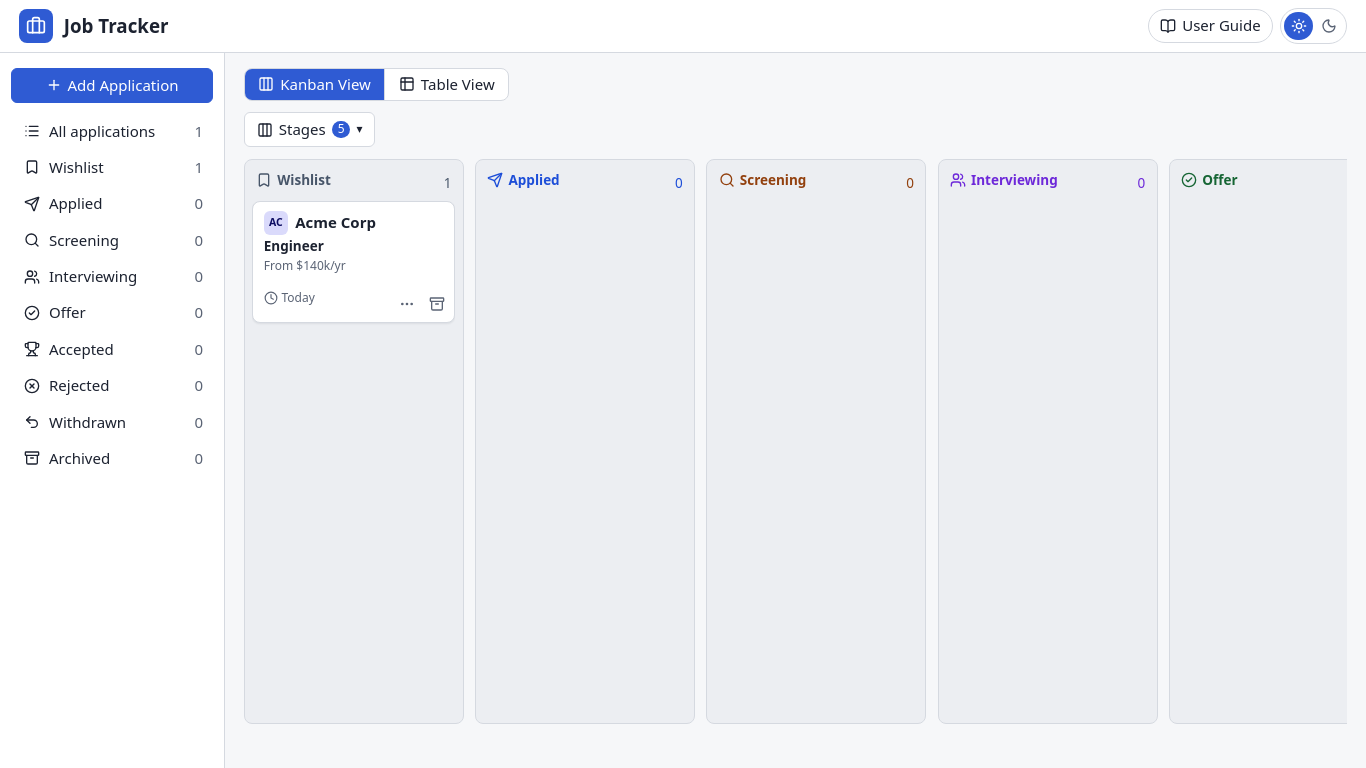
Test: job details section › doesn't count saved amounts shown with commas as a change
Click the button "AC Acme Corp Engineer From $140k/yr Today" at (354, 262), box [252,201,455,323]
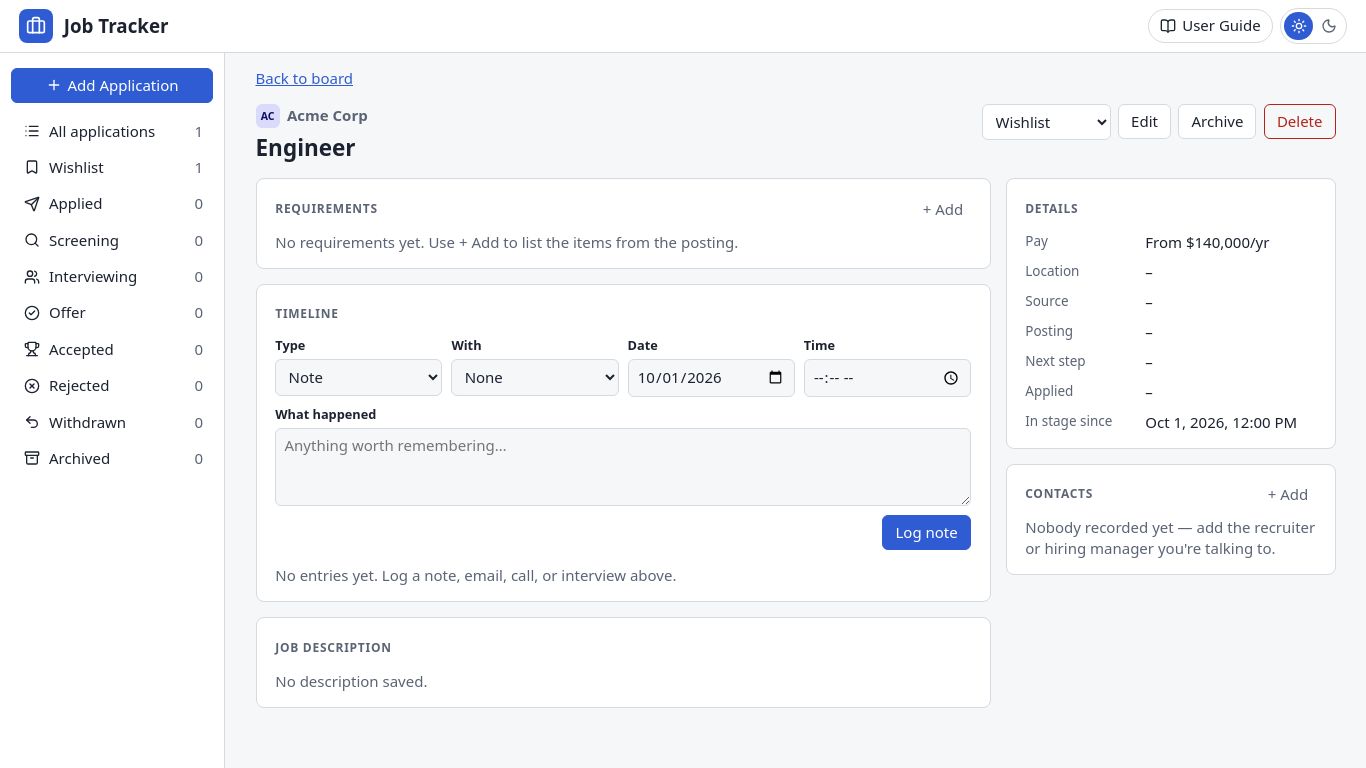
Click the button "Edit" at (1145, 122), box [1118,104,1171,139]
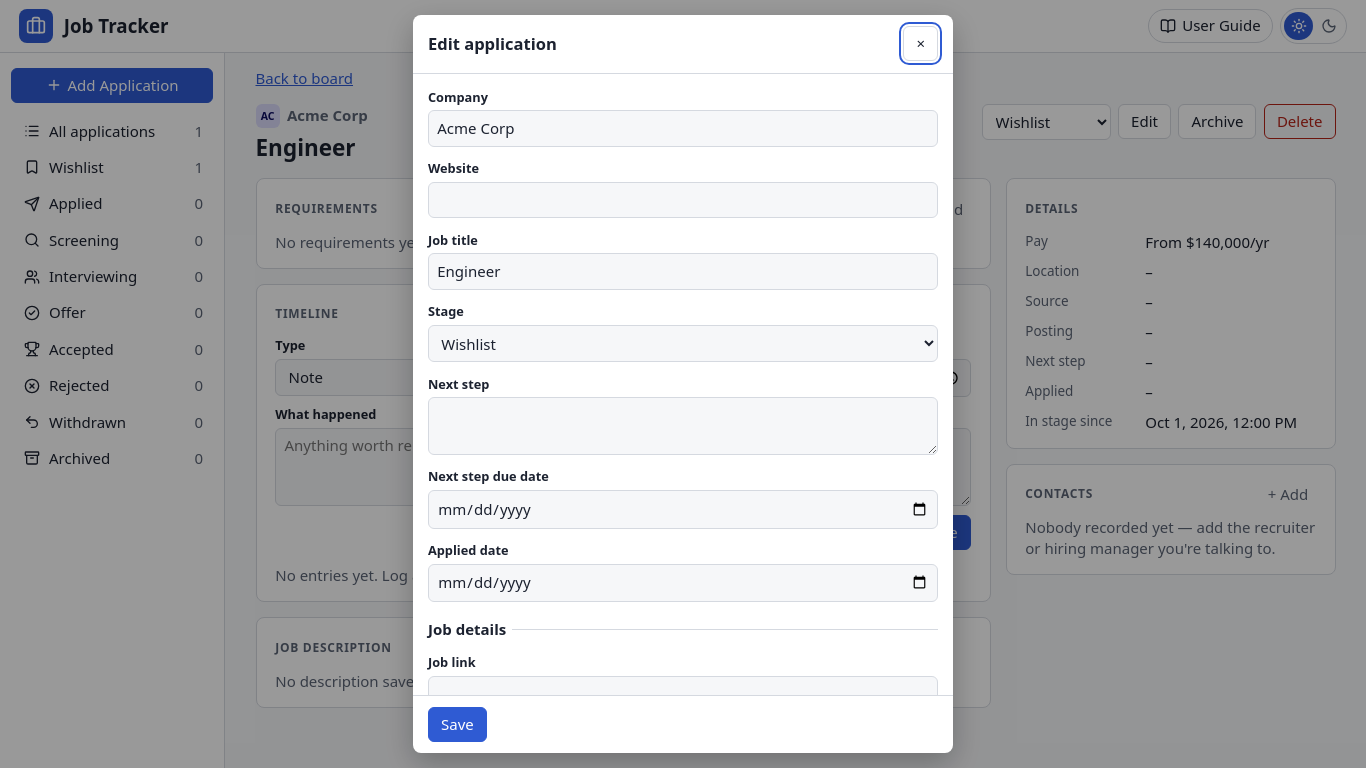
Click the button named "Close" at (921, 44), box [903,26,938,61]
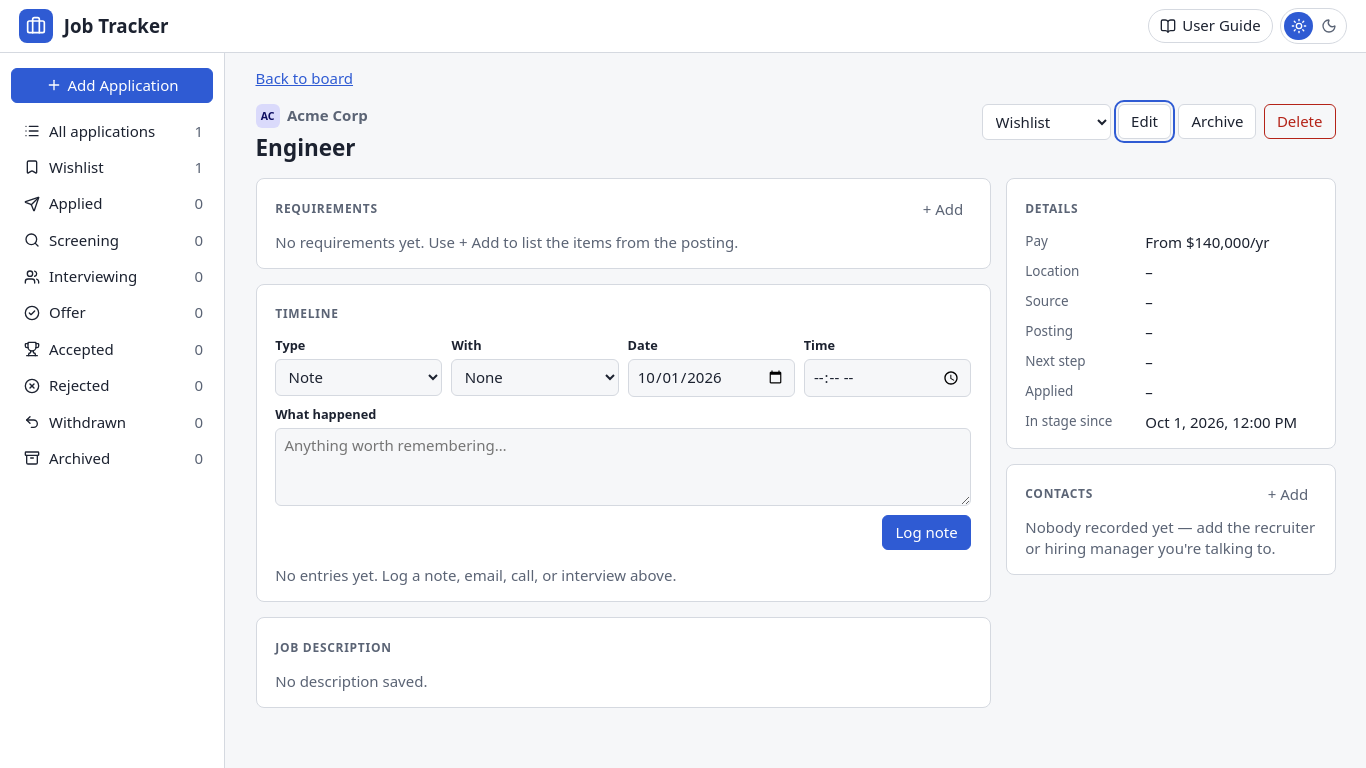
Expected: the dialog is gone
